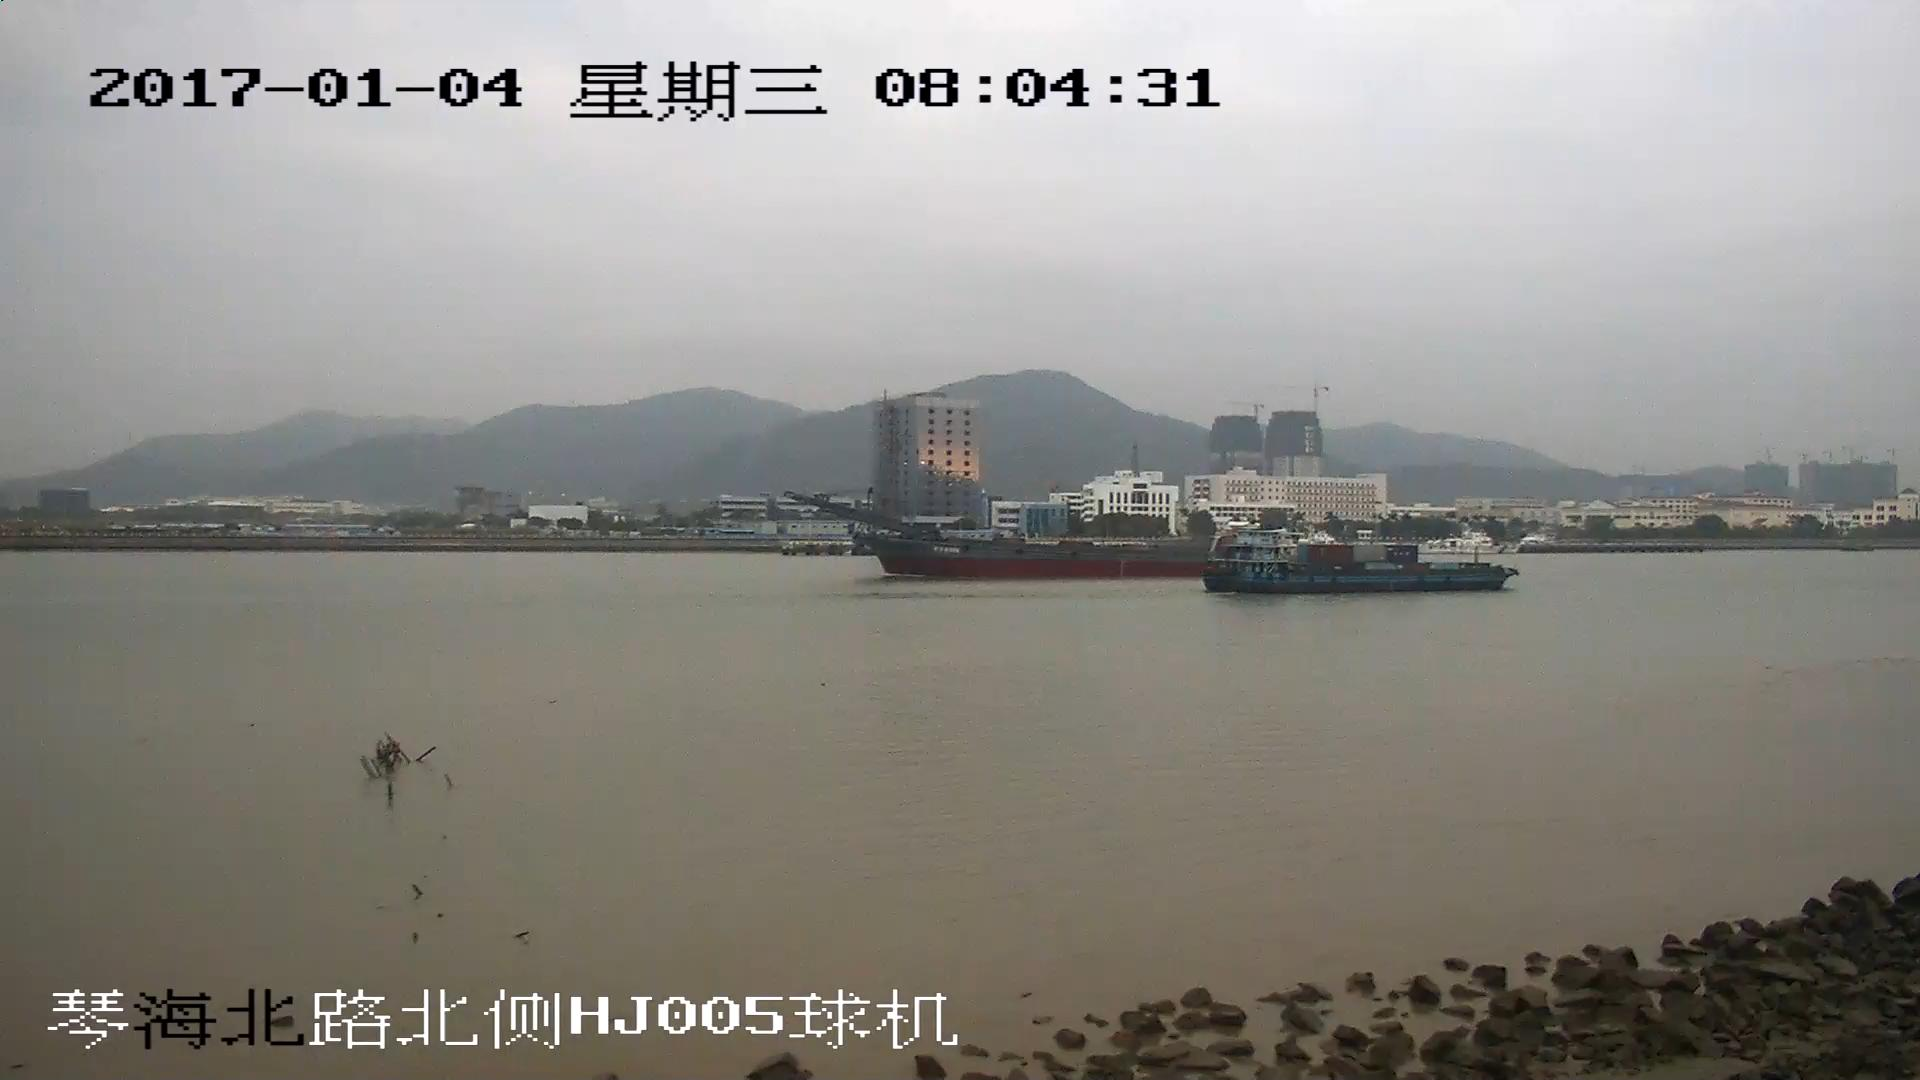bulk cargo carrier: (789, 491, 1202, 579)
container ship: (1205, 524, 1517, 594)
